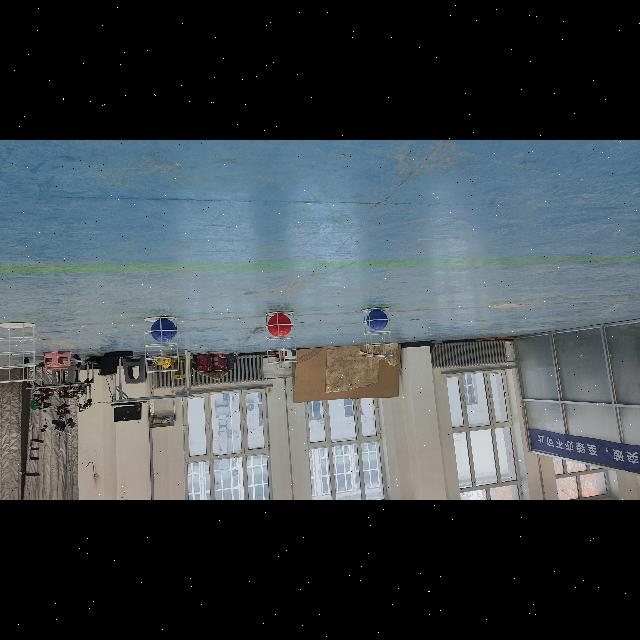B: (367, 310, 388, 330)
R: (268, 314, 292, 338)
S: (1, 320, 40, 386), (140, 314, 182, 374), (262, 307, 302, 365), (360, 304, 396, 362)
